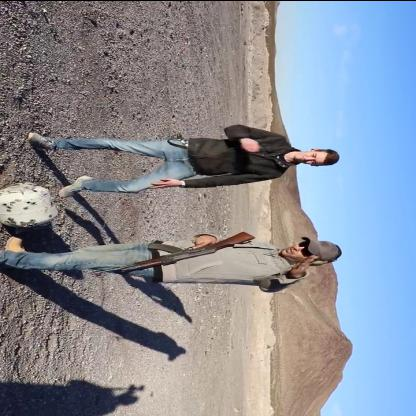Pistol: (87, 232, 269, 284)
